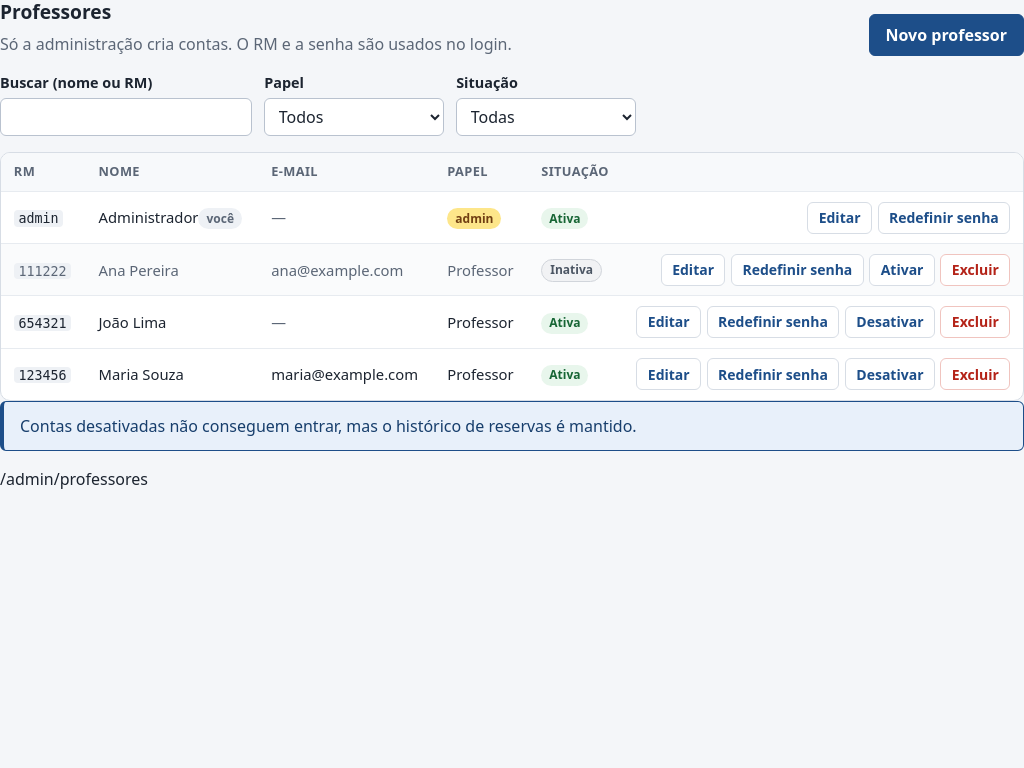
admin que desiste na confirmação não redefine nada
Click the button "Redefinir senha" in the row of "Administrador": point(944, 218) [878, 202, 1010, 234]
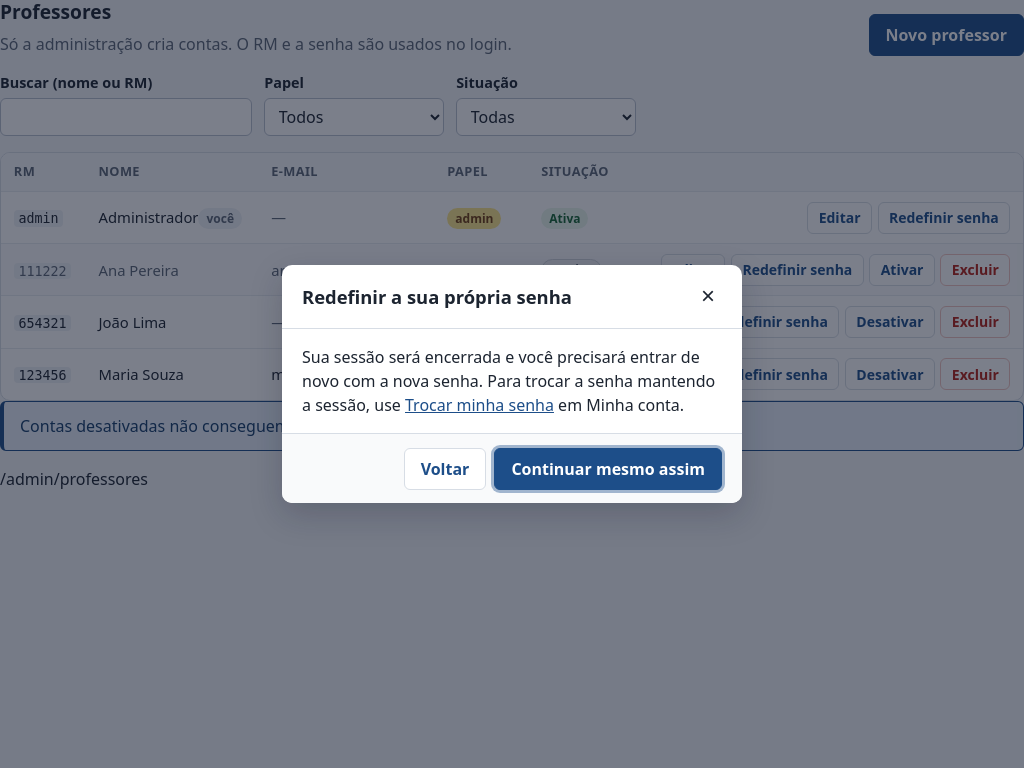
Click the button "Voltar": point(445, 469) [404, 448, 486, 490]
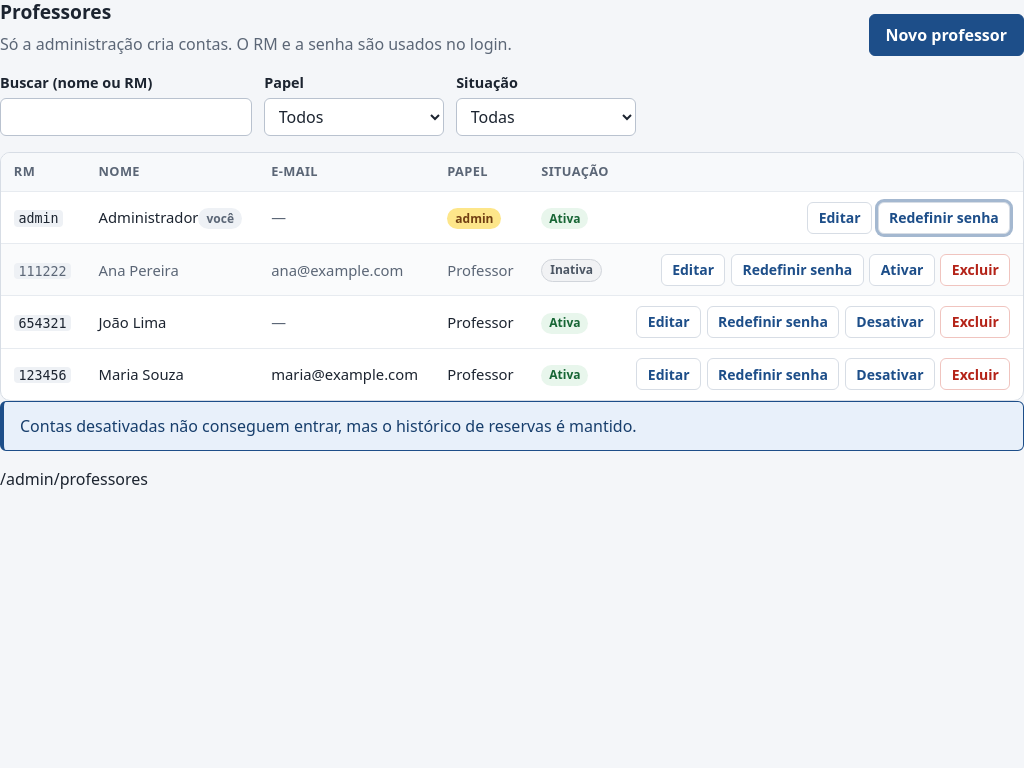
Expected: the dialog is gone
